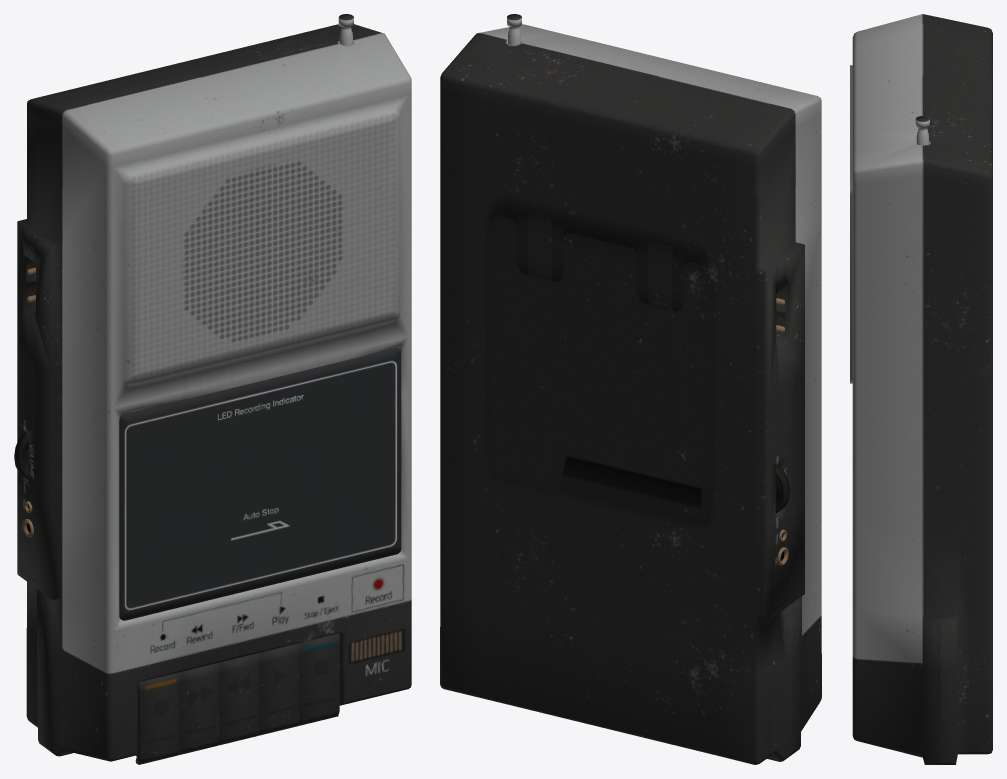
Rendered from soulrecorder_fp.fbx.
The picture shows the model from 3 angles, left to right: view 1: azimuth 30°, elevation 25°; view 2: azimuth 150°, elevation 25°; view 3: azimuth 270°, elevation 25°; orthographic projection. The views are drawn at different scales.
Visible parts, largest first — view 1: SoulRecorderBody; view 2: SoulRecorderBody; view 3: SoulRecorderBody.
Part boxes in pixels (box(x1,y1,x2,y2)): SoulRecorderBody: box(14, 14, 411, 764); SoulRecorderBody: box(440, 14, 821, 764); SoulRecorderBody: box(850, 14, 992, 764).
Size of the model in its own units: 0.1093 by 0.2 by 0.0413.
2 materials, 2 textured.
